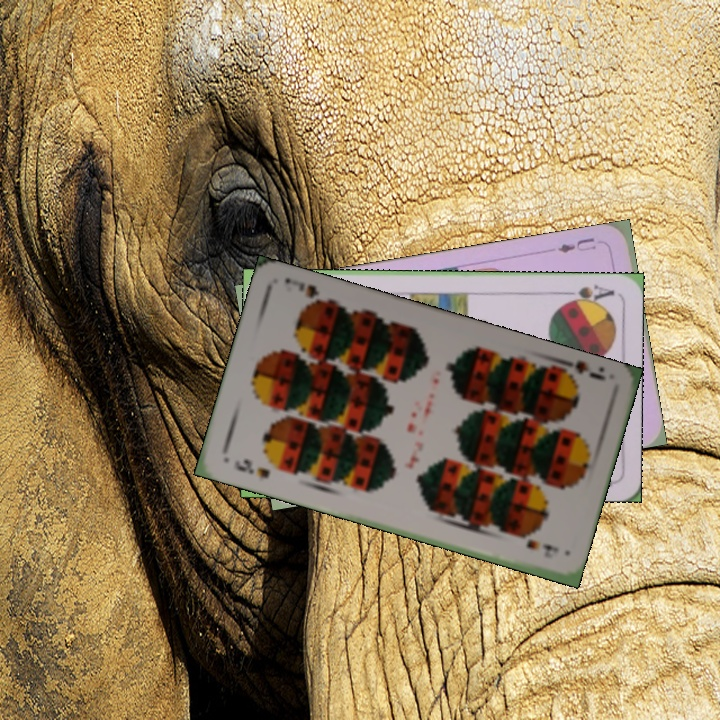EU: (554, 233, 598, 256)
S9: (554, 354, 609, 384), (230, 455, 273, 481)
SA: (558, 281, 617, 307)
